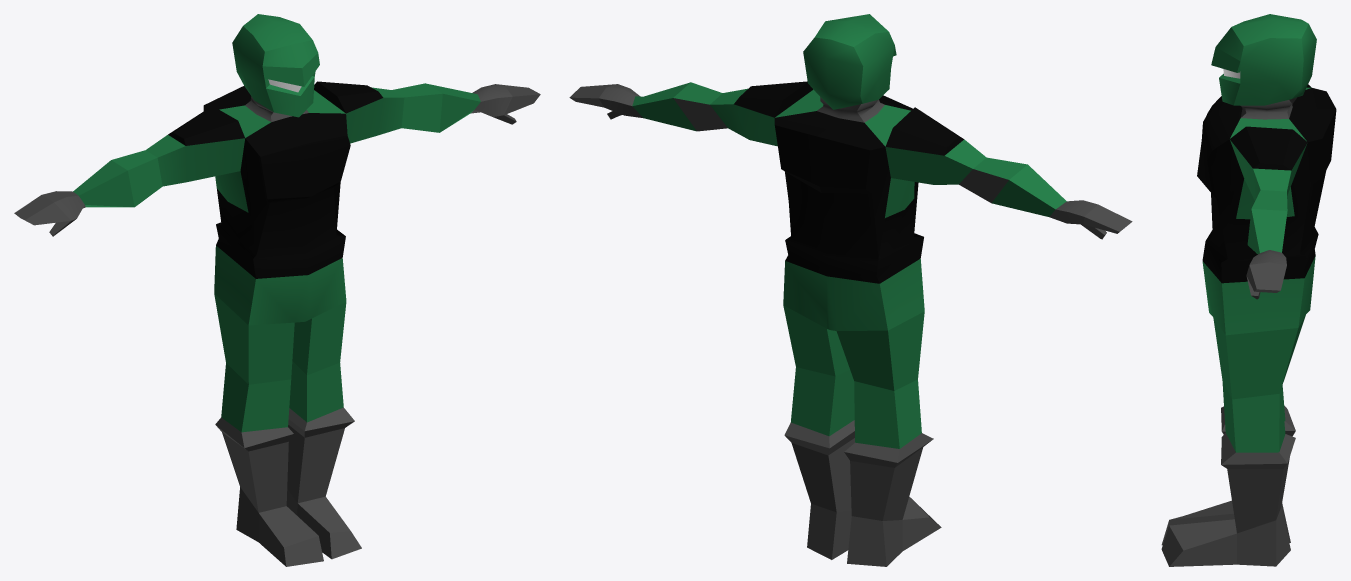
The model's file is Soldier1ver1 (1).fbx.
3 views of the same model, side by side, from view 1: azimuth 30°, elevation 25°; view 2: azimuth 150°, elevation 25°; view 3: azimuth 270°, elevation 25° (orthographic). The views are drawn at different scales.
Parts seen in each view (by area): view 1: Soldier; view 2: Soldier; view 3: Soldier.
Part boxes in pixels (x1,y1,x2,y2): Soldier: (14, 14, 540, 566); Soldier: (569, 14, 1132, 566); Soldier: (1161, 14, 1336, 566).
Size of the model in its own units: 4.2 by 3.89 by 1.17.
